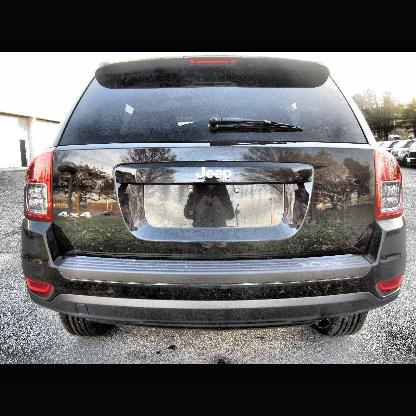Jeep Compass SUV 2012: (20, 54, 412, 344)
